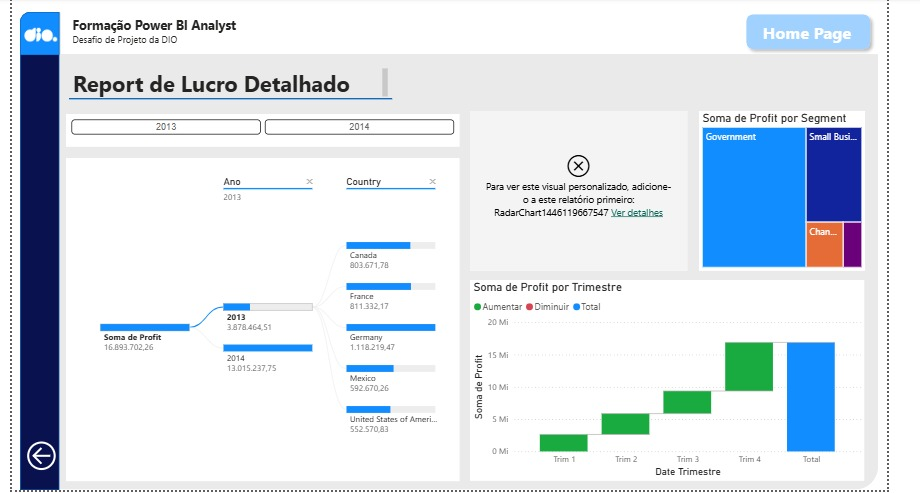

Layout of this report page (visuals, bound fields, positions):
{"tool":"powerbi","page":{"name":"Profit","canvas":[1280,720],"ordinal":1},"visuals":[{"type":"actionButton","title":"Home Page","box":[1064.7,14.6,199.6,69.2],"z":0,"group":"g2"},{"type":"shape","box":[42.6,20.7,1225.3,699.3],"z":0},{"type":"shape","box":[83.9,127.8,473,37.1],"z":0,"group":"g1"},{"type":"shape","box":[12.4,20.2,57.7,699.8],"z":1000},{"type":"textbox","box":[1076.9,29.4,173,42.6],"z":1000,"group":"g2"},{"type":"textbox","box":[85.3,97.6,470.2,52.2],"z":1000,"group":"g1"},{"type":"shape","box":[12.4,20.6,57.7,63.2],"z":2000},{"type":"image","box":[13.7,33,57.7,39.9],"z":3000},{"type":"shape","title":"Fundo do Título","box":[71.5,20.6,1198.9,61.9],"z":4000},{"type":"textbox","title":"Título do report","box":[83.9,22,378.1,63.2],"z":5000},{"type":"shape","box":[79.7,233.7,576.1,473],"z":6000},{"type":"decompositionTreeVisual","fields":{"Analyze":["Sum(financials.Profit)"],"ExplainBy":["financials.Date.Variation.Hierarquia de datas.Ano","financials.Country"]},"box":[99.8,242.2,536.3,456.5],"z":7000},{"type":"waterfallChart","fields":{"Category":["financials.Date.Variation.Hierarquia de datas.Trimestre"],"Y":["Sum(financials.Profit)"]},"box":[670.9,412.5,577.4,294.2],"z":8000},{"type":"ChicletSlicer1448559807354","fields":{"Category":["financials.Date.Variation.Hierarquia de datas.Ano"]},"box":[79.7,170.5,576.1,48.1],"z":9000},{"type":"RadarChart1446119667547","fields":{"Category":["financials.Product"],"Y":["Sum(financials.Profit)"]},"box":[670.9,165,317.6,233.7],"z":10000},{"type":"treemap","fields":{"Group":["financials.Segment"],"Values":["Sum(financials.Profit)"]},"box":[1005,165,243.4,233.7],"z":11000},{"type":"group","id":"g1","title":"Sales report","box":[83.9,97.6,473,67.4],"z":12000},{"type":"actionButton","box":[15.9,622.4,54,96.9],"z":13000},{"type":"group","id":"g2","title":"Botão home","box":[1064.7,14.6,199.6,69.2],"z":14000}]}

Visuals, with their boxes on the page's 1280x720 design canvas (x1, y1, x2, y2). These are canvas units, not pixel positions in the 920x493 screenshot, which may show the page scaled, cropped or inside an application window:
"Home Page" actionButton: 1065 15 1264 84
shape: 43 21 1268 720
shape: 84 128 557 165
shape: 12 20 70 720
textbox: 1077 29 1250 72
textbox: 85 98 556 150
shape: 12 21 70 84
image: 14 33 71 73
"Fundo do Título" shape: 72 21 1270 82
"Título do report" textbox: 84 22 462 85
shape: 80 234 656 707
decompositionTreeVisual - Sum(financials.Profit) x financials.Date.Variation.Hierarquia de datas.Ano: 100 242 636 699
waterfallChart - financials.Date.Variation.Hierarquia de datas.Trimestre x Sum(financials.Profit): 671 412 1248 707
ChicletSlicer1448559807354 - financials.Date.Variation.Hierarquia de datas.Ano: 80 170 656 219
RadarChart1446119667547 - financials.Product x Sum(financials.Profit): 671 165 988 399
treemap - financials.Segment x Sum(financials.Profit): 1005 165 1248 399
"Sales report" group: 84 98 557 165
actionButton: 16 622 70 719
"Botão home" group: 1065 15 1264 84
